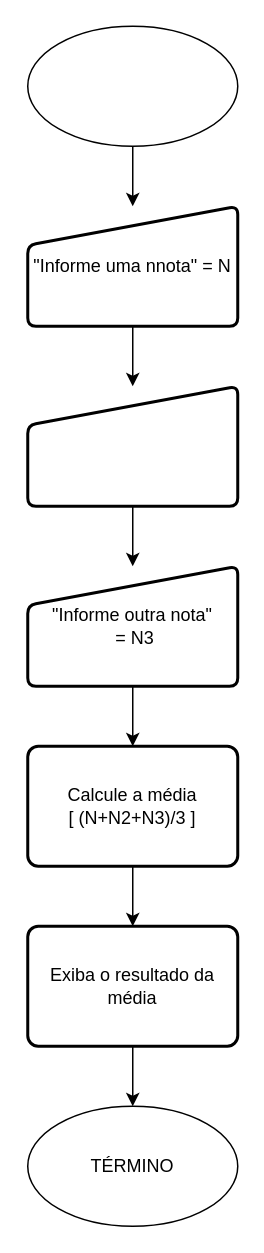
The diagram is 264 pixels wide and 1253 high, and some of its shapes have lost their labels. The centre of each missing label's shape, as x and y in pixels:
"Informe outra nota" = N2: point 132,445
INÍCIO: point 132,85
